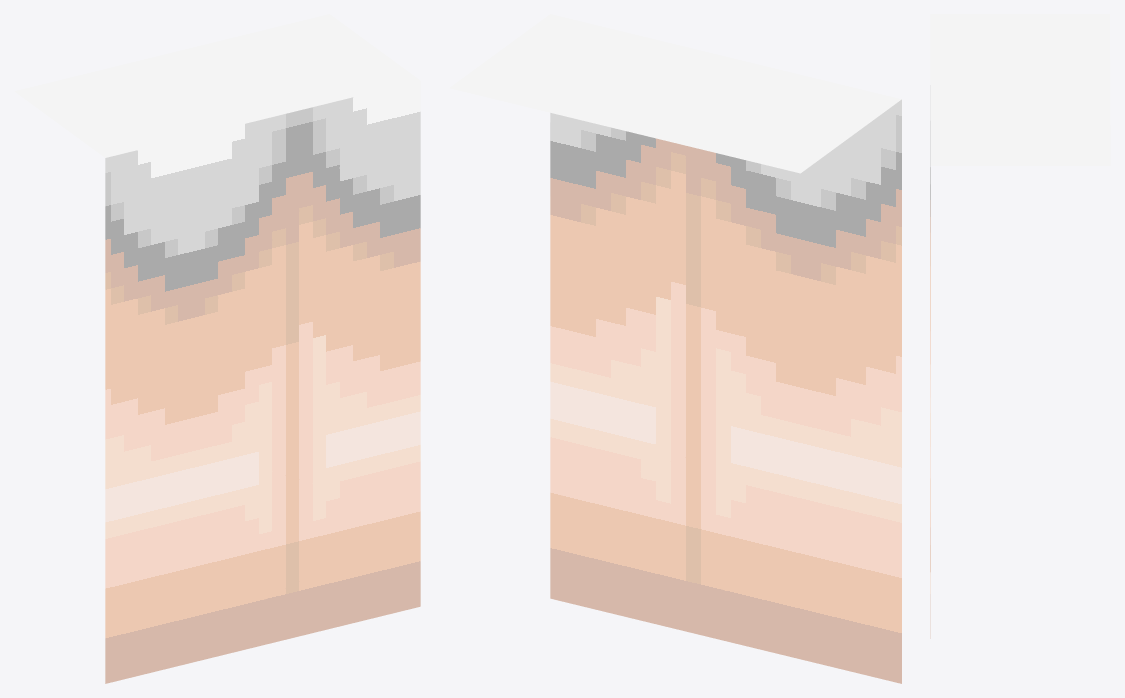
3 views of the same model, side by side, from view 1: azimuth 30°, elevation 25°; view 2: azimuth 150°, elevation 25°; view 3: azimuth 270°, elevation 25° (orthographic). The views are drawn at different scales.
Bounding box in the file's own units: 1 × 1.59 × 0.5021.
Materials: 1 (1 with a texture image).
